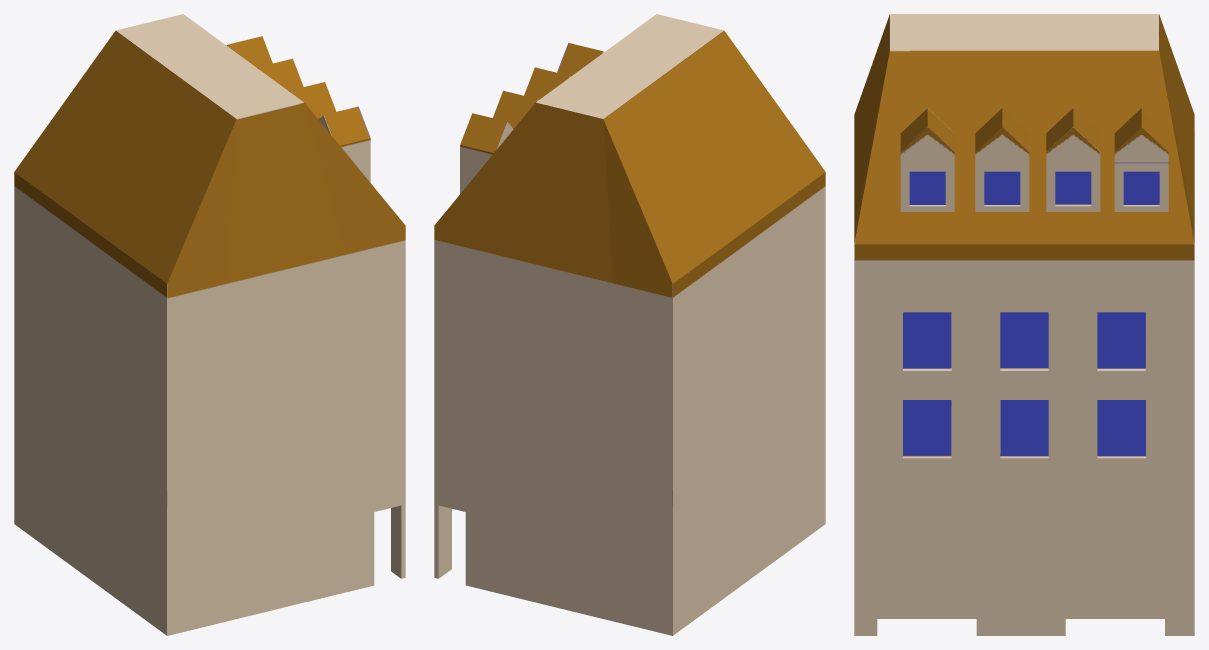
The model's file is afk.glb.
The picture shows the model from 3 angles, left to right: view 1: azimuth 30°, elevation 25°; view 2: azimuth 150°, elevation 25°; view 3: azimuth 270°, elevation 25°; orthographic projection. The views are drawn at different scales.
Visible parts, largest first — view 1: Cube; view 2: Cube; view 3: Cube.
Part boxes in pixels (box(x1,y1,x2,y2)): Cube: box(14, 14, 405, 635); Cube: box(434, 14, 825, 635); Cube: box(854, 14, 1194, 635).
Size of the model in its own units: 2.72 by 5.27 by 3.02.
Materials: 1 (1 with a texture image).
